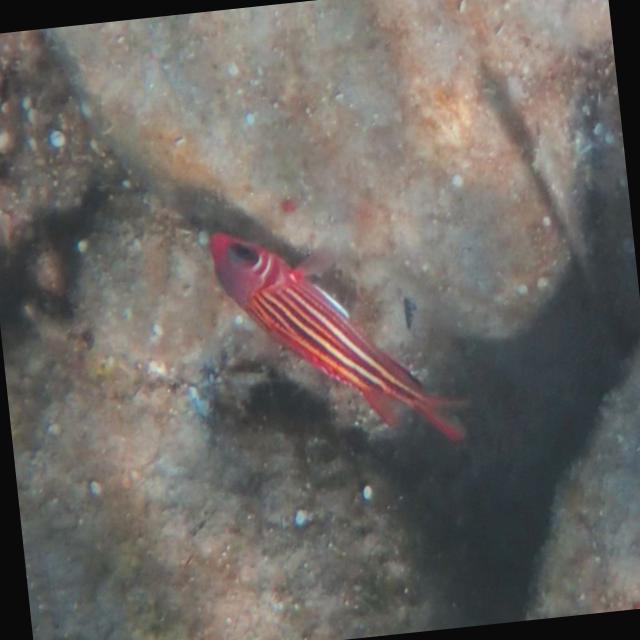Asker Baligi: (203, 204, 474, 467)
